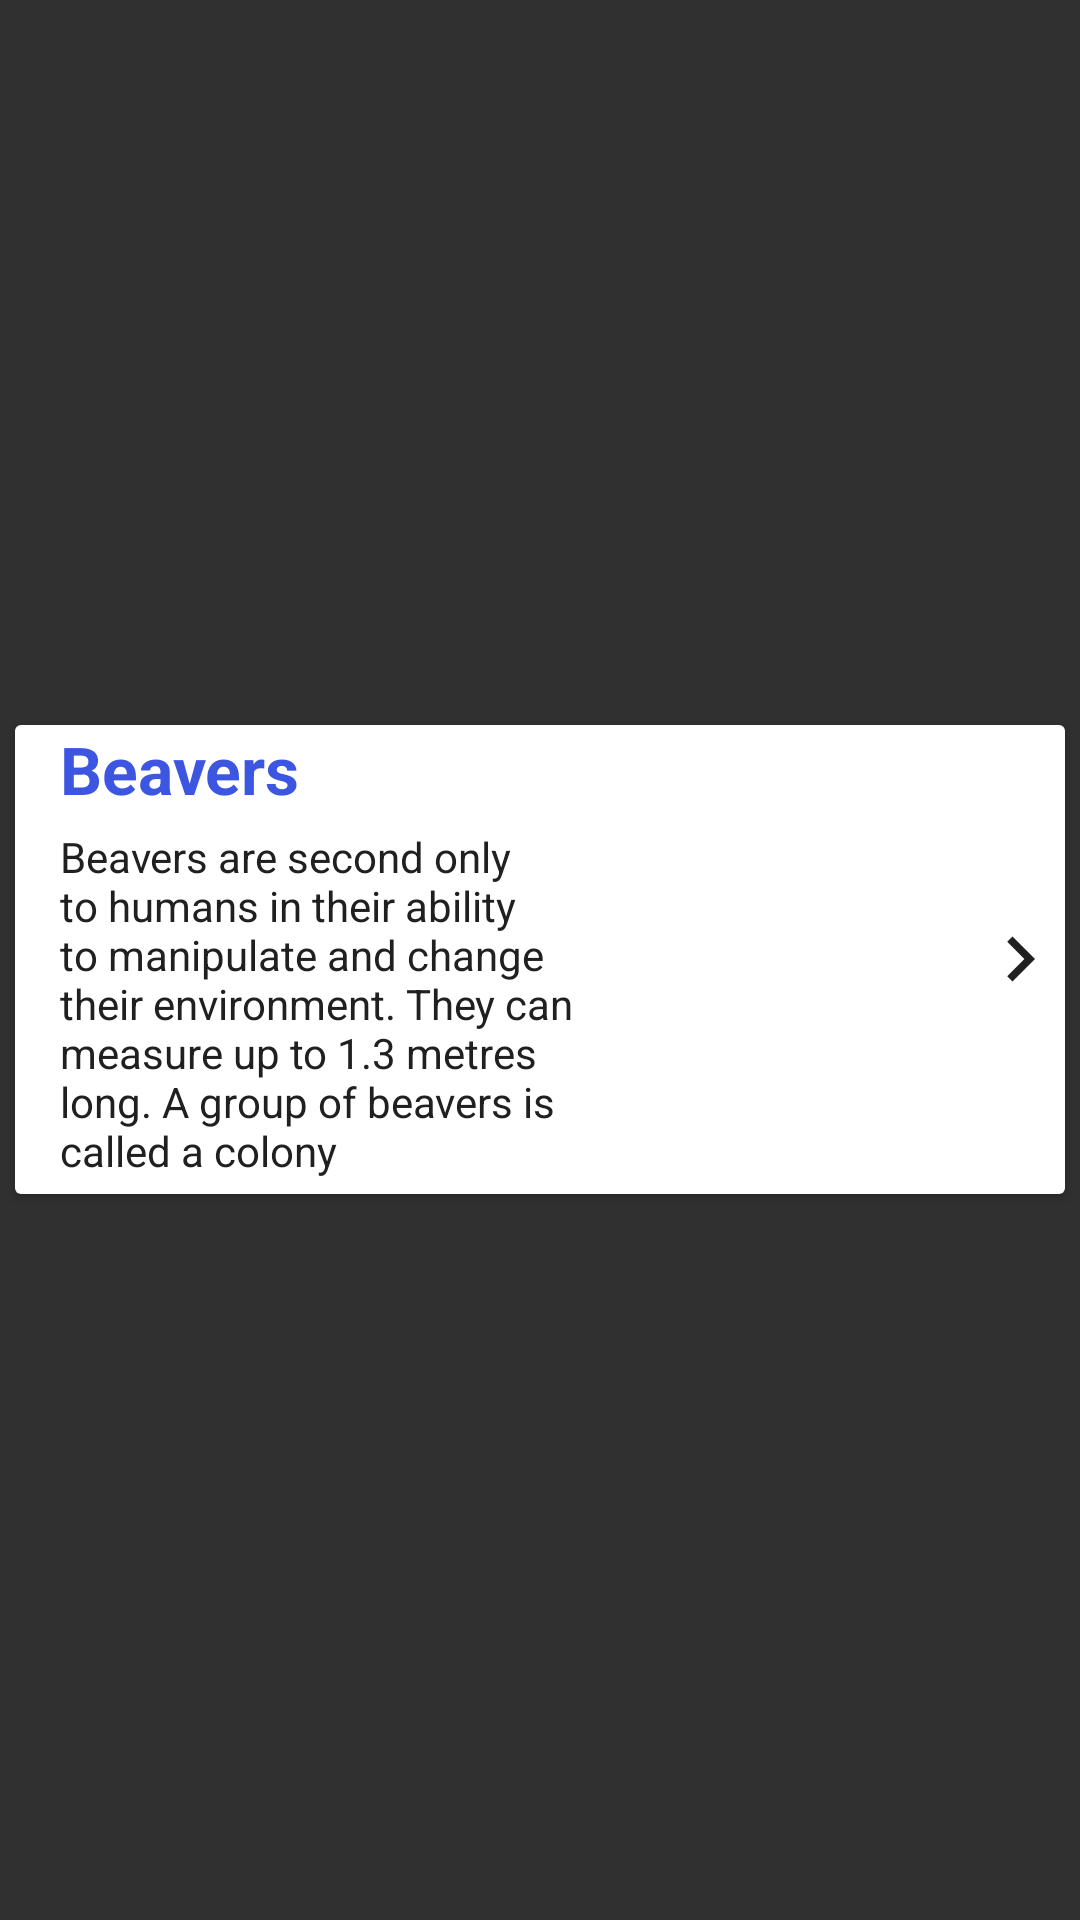

Icon click points for this 1080 x 1920 phone screenshot, format point (x, y):
arrow: point (1021, 959)
